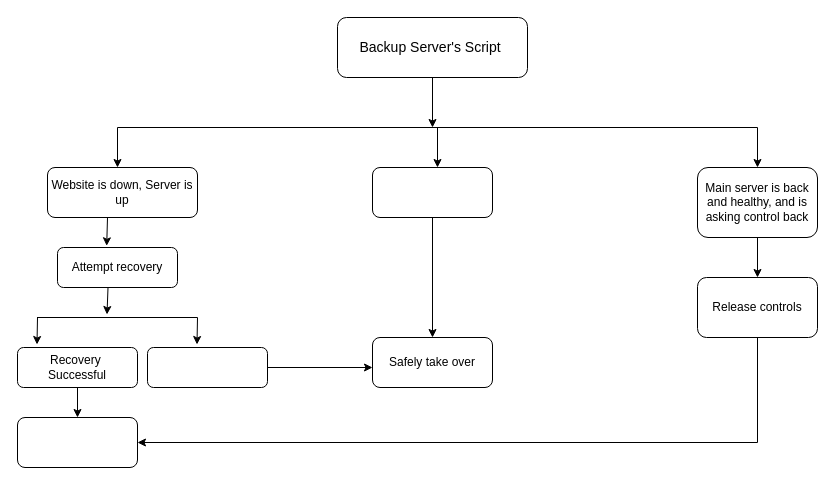
Image size: 835x485. Some labels were removed from this diagram. Each missing label, with the centre of its shape:
Go back to monitoring: point (77, 442)
Recovery Failed: point (207, 367)
Website is down, Server is also down: point (432, 192)
